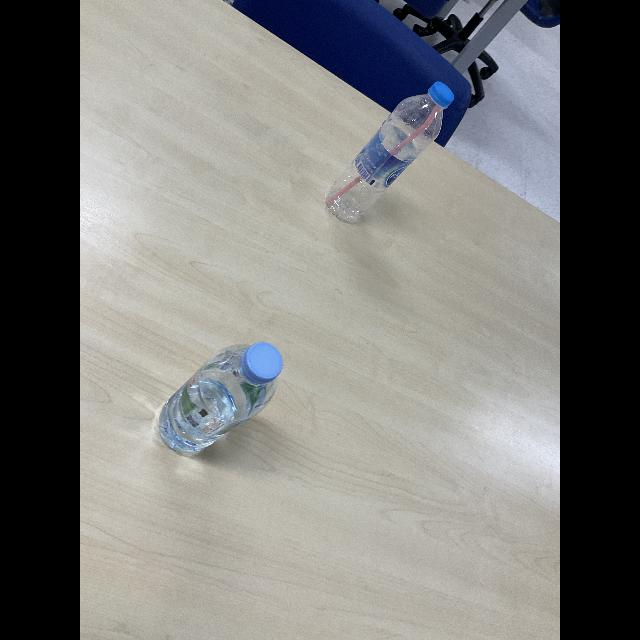plastic_bottle: (324, 74, 458, 230), (158, 337, 284, 461)
plastic_bottle_cap: (244, 339, 282, 385), (429, 79, 455, 109)
